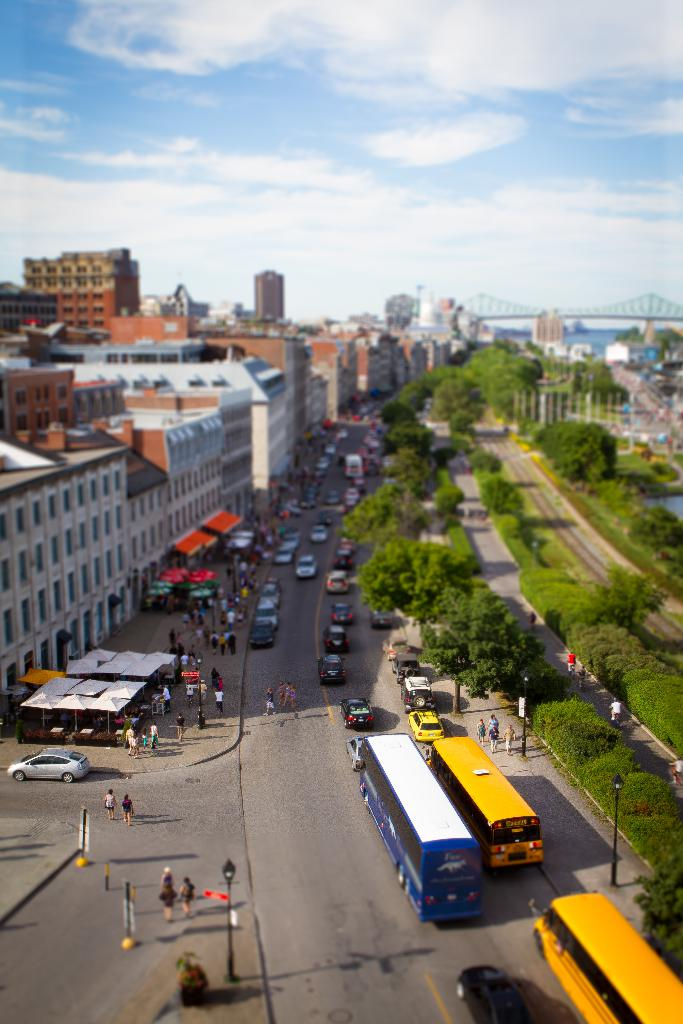Car: (456, 956, 523, 1022), (8, 748, 92, 784), (410, 711, 449, 743), (339, 697, 372, 728), (381, 634, 417, 662), (317, 652, 346, 686), (370, 602, 397, 632), (324, 620, 355, 645), (322, 567, 350, 592), (246, 624, 279, 645), (296, 552, 317, 581), (253, 602, 276, 627), (331, 599, 355, 620), (260, 583, 281, 600), (324, 487, 344, 504), (274, 543, 292, 561), (310, 526, 331, 540)
